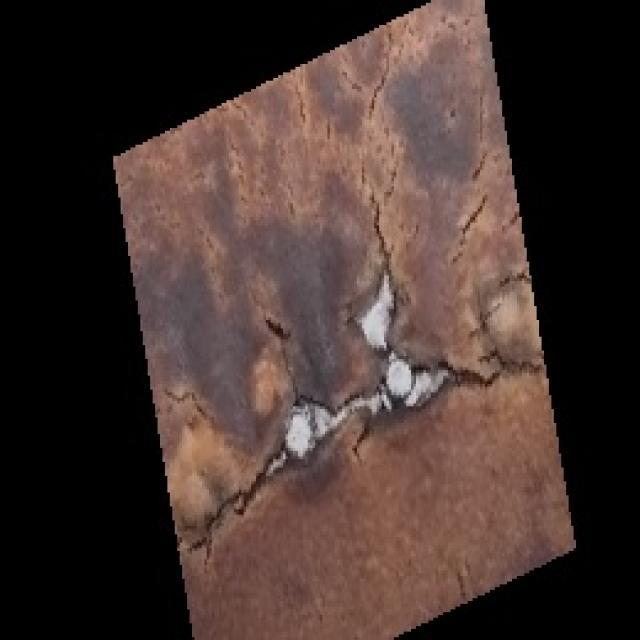crack: (190, 445, 270, 534), (263, 306, 330, 392), (364, 190, 406, 264)
